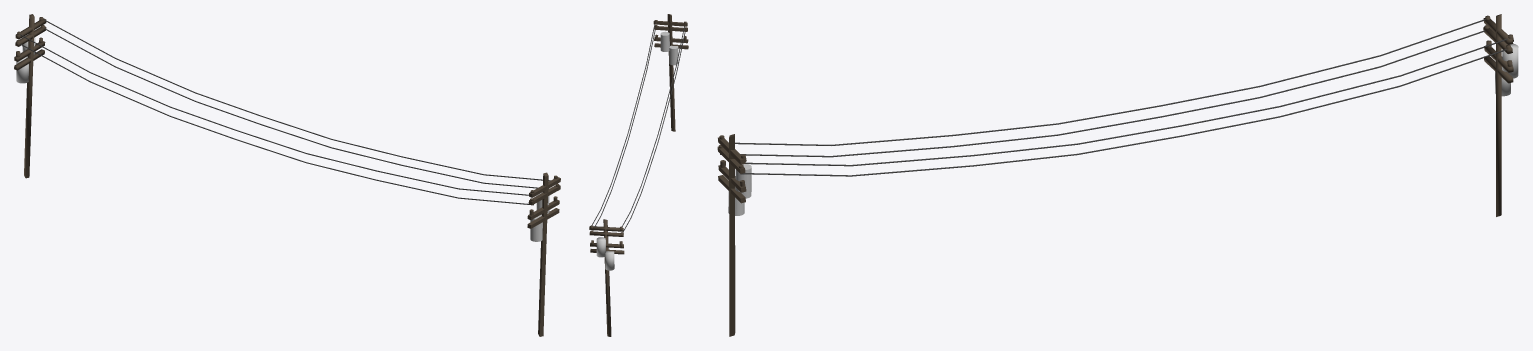
File: ElectricPole.fbx
3 views of the same model, side by side, from view 1: azimuth 30°, elevation 25°; view 2: azimuth 150°, elevation 25°; view 3: azimuth 270°, elevation 25° (orthographic). The views are drawn at different scales.
Parts seen in each view (by area): view 1: dabba.001; view 2: dabba.001; view 3: dabba.001.
Boxes of the visible parts, <box> form: dabba.001: <box>14,14,560,336</box>; dabba.001: <box>589,14,688,336</box>; dabba.001: <box>717,14,1518,336</box>.
Bounding box in the file's own units: 816 × 527 × 1759.
